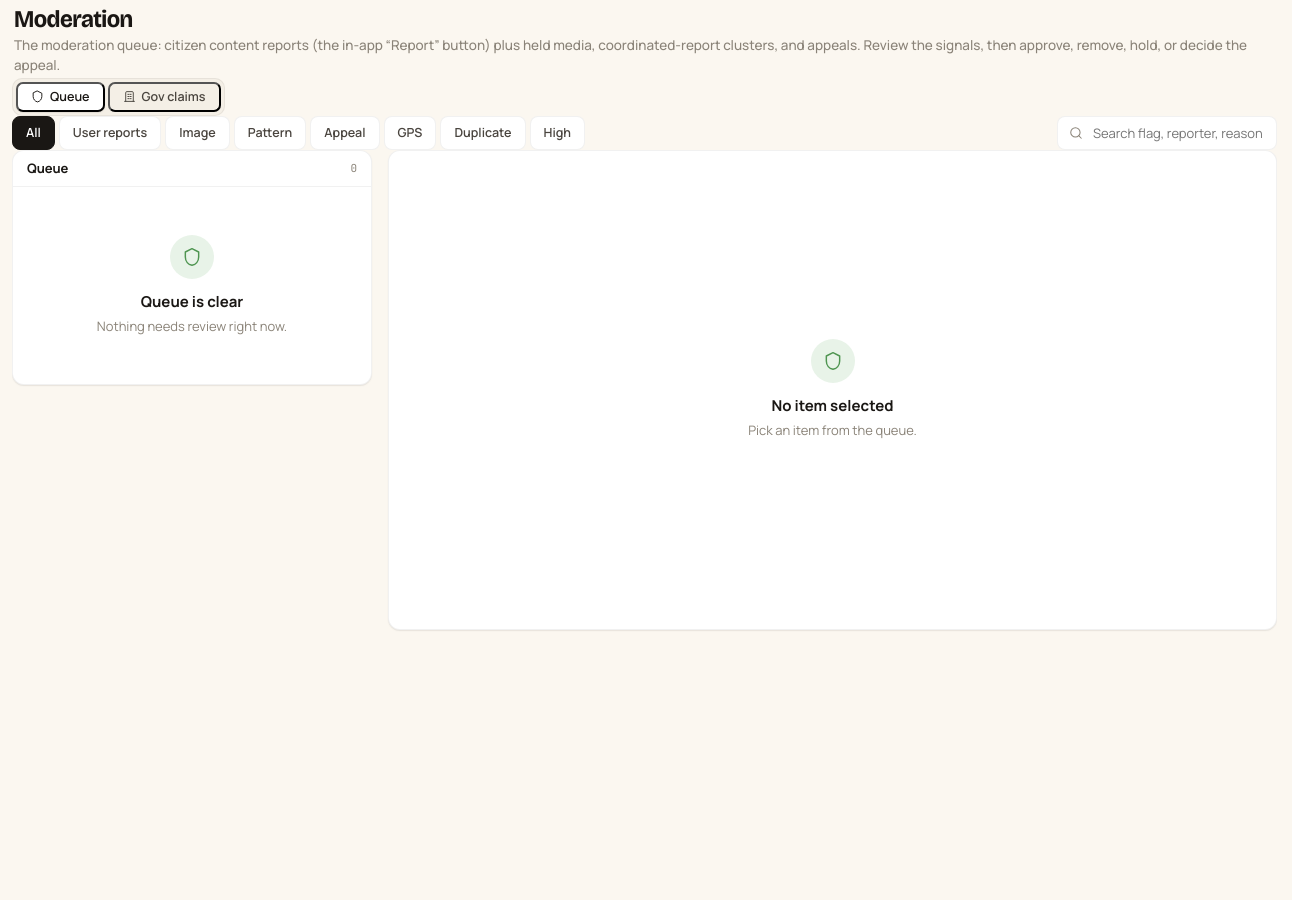
Scenario: ModerationPage gov claims › shows the empty copy when no claim is waiting
The width and height of the screenshot is (1292, 900).
Click the radio button labelled "Gov claims" at [164, 96], box [108,82,220,112]
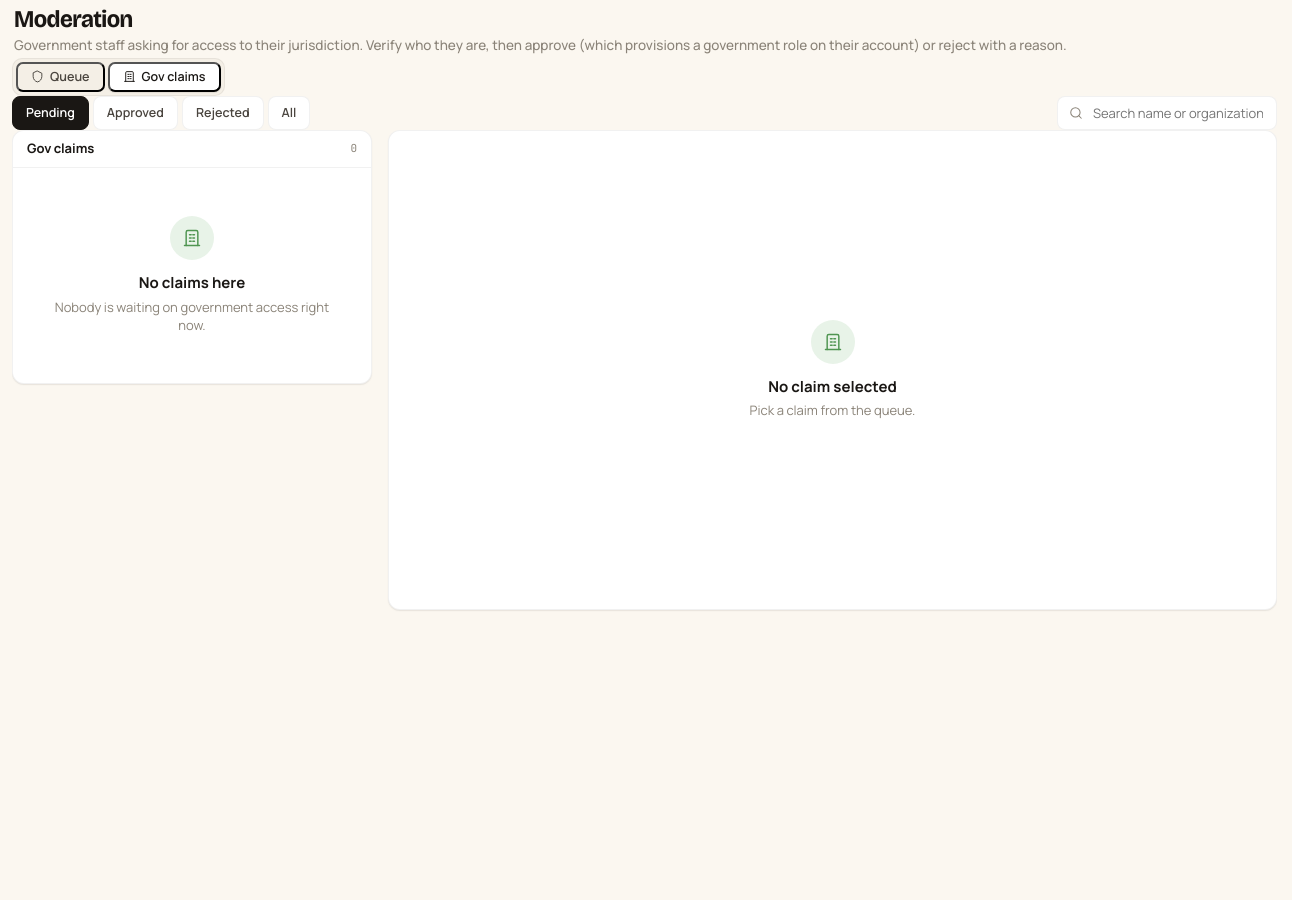
Expected: the text "No claims here" is shown, [139,272,245,294]
Expected: the text "Nobody is waiting on government access right now." is shown, [49,298,335,335]
Expected: the text "Pick a claim from the queue." is shown, [750,401,916,420]
